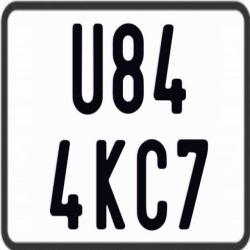4: (153, 23, 187, 114), (50, 139, 84, 229)
7: (176, 140, 208, 233)
8: (112, 22, 146, 114)
C: (137, 140, 170, 234)
K: (96, 138, 126, 230)
U: (72, 24, 104, 118)
